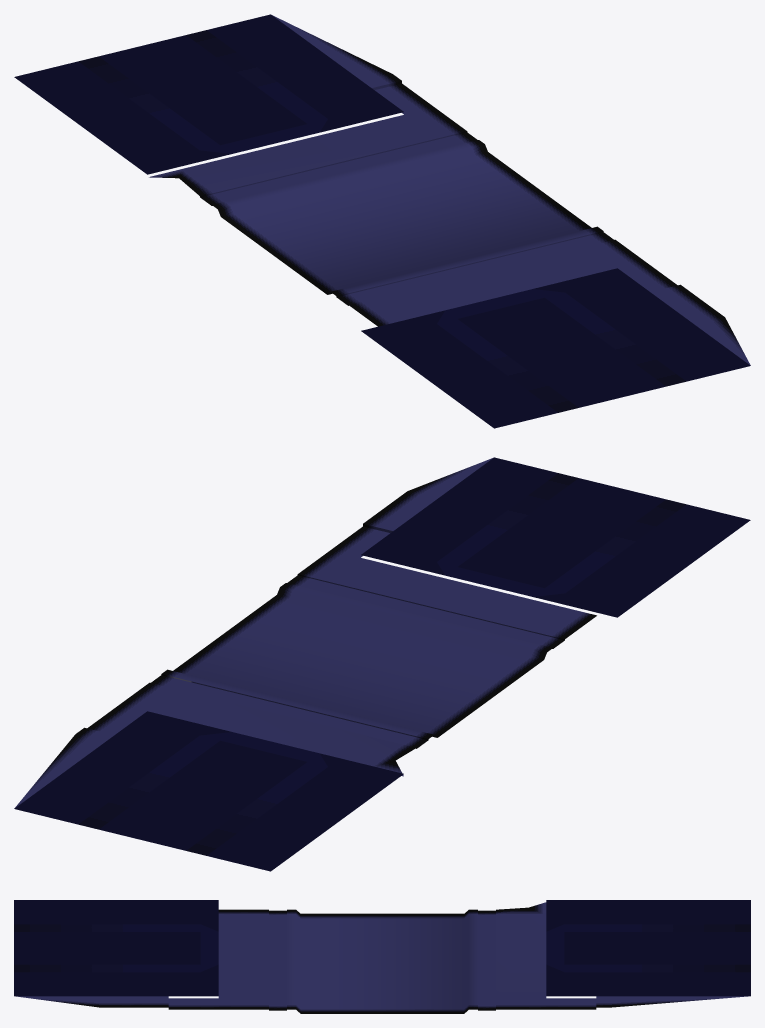
The picture shows the model from 3 angles, top to bottom: view 1: azimuth 30°, elevation 25°; view 2: azimuth 150°, elevation 25°; view 3: azimuth 270°, elevation 25°; orthographic projection. The views are drawn at different scales.
Visible parts, largest first — view 1: Joint_0_Object_0; view 2: Joint_0_Object_0; view 3: Joint_0_Object_0.
Part boxes in pixels (x1,y1,x2,y2): Joint_0_Object_0: [14, 14, 750, 428]; Joint_0_Object_0: [14, 457, 750, 871]; Joint_0_Object_0: [14, 900, 750, 1013].
Size of the model in its own units: 2797 by 75 by 8100.
Materials: 1 (1 with a texture image).
